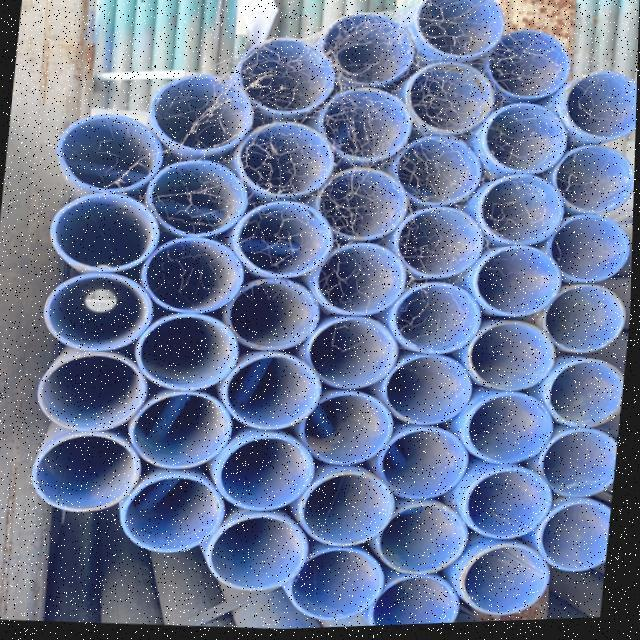pipe: (36, 426, 145, 511), (41, 346, 151, 430), (59, 112, 161, 194), (156, 68, 255, 150), (132, 392, 237, 468), (212, 514, 313, 592), (125, 478, 231, 552), (52, 194, 156, 269), (292, 545, 392, 622), (139, 315, 242, 389), (47, 275, 151, 348), (305, 473, 405, 548), (224, 434, 320, 511), (230, 353, 327, 429), (240, 122, 337, 198), (238, 200, 336, 275), (146, 240, 248, 311), (152, 160, 248, 234), (241, 38, 337, 112), (381, 503, 475, 577), (325, 12, 415, 88), (322, 90, 415, 163), (307, 394, 400, 465), (312, 318, 403, 390), (470, 395, 562, 466), (385, 430, 474, 502), (232, 282, 323, 352), (320, 171, 411, 240), (320, 244, 408, 315), (396, 285, 484, 356), (472, 322, 560, 393), (477, 247, 566, 317), (411, 66, 496, 139), (388, 356, 476, 426), (399, 208, 488, 277), (473, 468, 558, 540), (398, 135, 483, 206), (485, 178, 570, 248), (488, 33, 572, 102), (488, 105, 570, 175), (470, 549, 553, 617), (557, 147, 636, 218), (550, 288, 630, 355), (553, 220, 634, 286), (375, 572, 466, 629), (546, 431, 620, 501), (417, 0, 507, 57), (543, 503, 614, 574), (554, 360, 626, 430), (567, 76, 638, 143)
